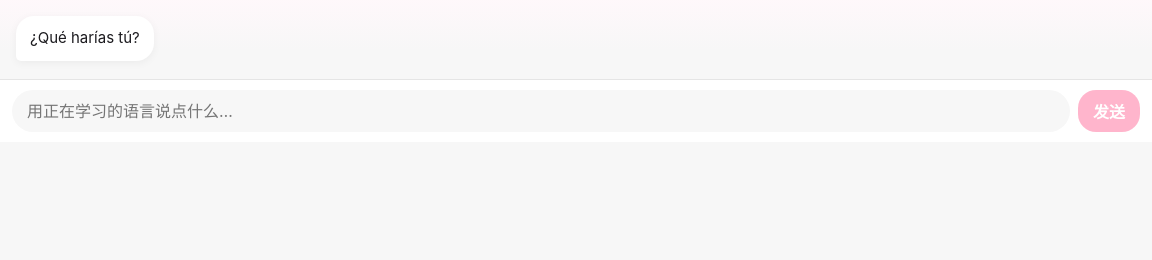
Test: Soul Mate MVP › lets the companion speak first on chat entry, then sends a learner reply
expect the element with class "bubble" reads "¿Qué harías tú?": met, box top-left (16, 16), bottom-right (154, 60)
Type "Yo buscaría la estación." into the field with placeholder "用正在学习的语言说点什么…" at x=541, y=110, box top-left (12, 90), bottom-right (1070, 132)
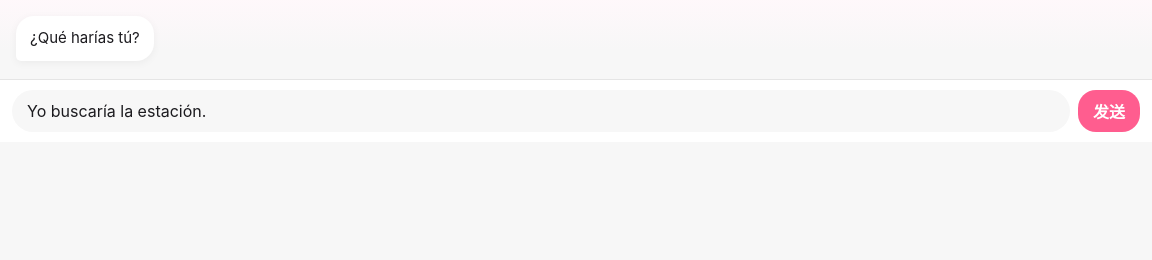
Submit the form with class "input-bar", box top-left (0, 78), bottom-right (1151, 142)
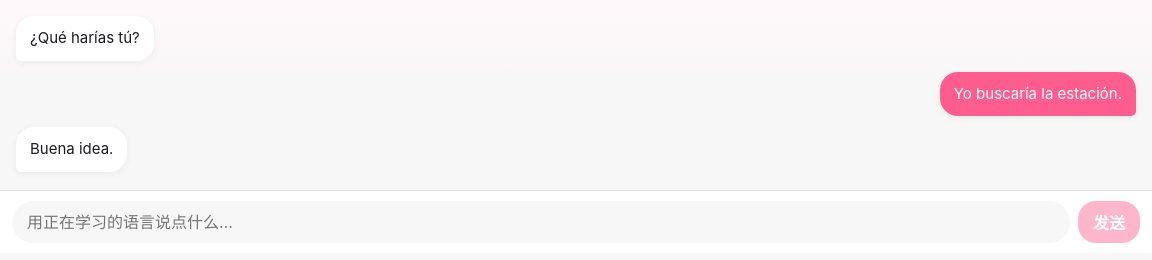
expect the text "Buena idea." is shown: met, box top-left (16, 127), bottom-right (127, 172)
